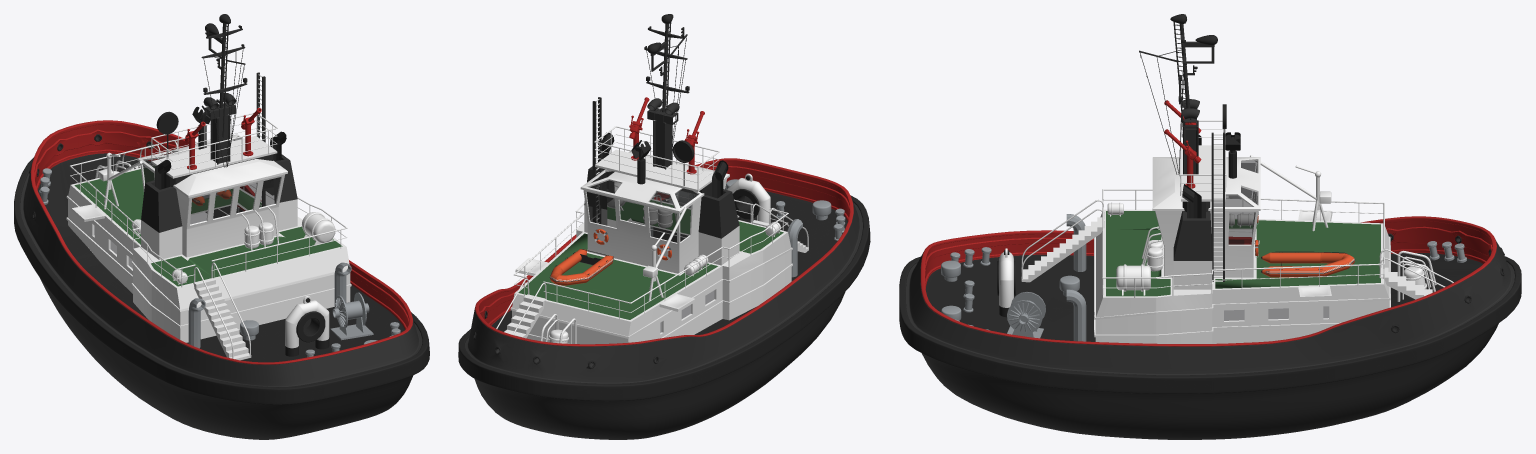
Rendered from ship.glb.
The picture shows the model from 3 angles, left to right: view 1: azimuth 30°, elevation 25°; view 2: azimuth 150°, elevation 25°; view 3: azimuth 270°, elevation 25°; orthographic projection. The views are drawn at different scales.
Visible parts, largest first — view 1: tl; view 2: tl; view 3: tl.
Boxes of the visible parts, x1=… form: tl: x1=14, y1=14, x2=429, y2=439; tl: x1=458, y1=14, x2=870, y2=439; tl: x1=899, y1=14, x2=1521, y2=439.
Size of the model in its own units: 11.92 by 16.94 by 24.75.
Materials: 24 (23 with a texture image).
